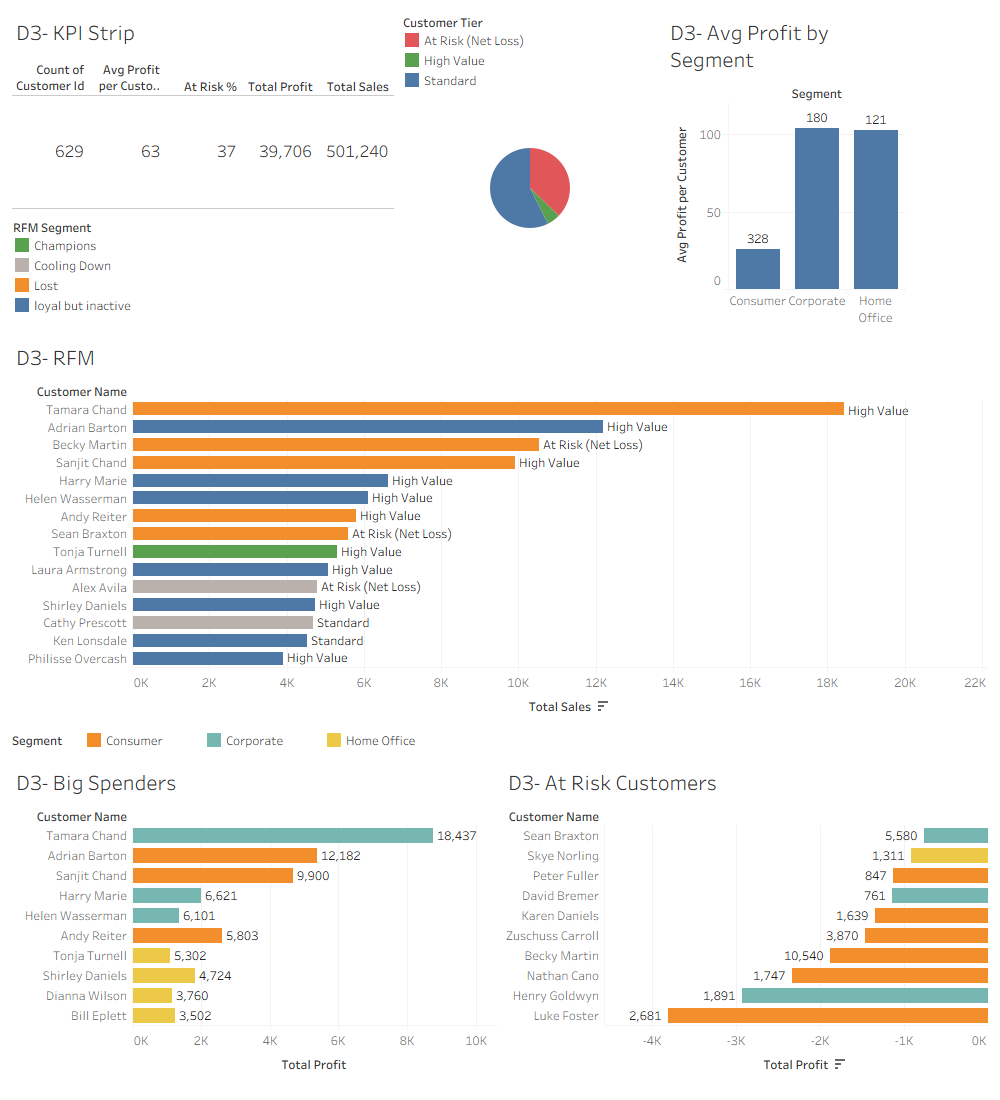

Layout of this report page (visuals, bound fields, positions):
{"tool":"tableau","page":{"name":"D3 - Customer Analysis","canvas":[1000,1100],"ordinal":2},"visuals":[{"type":"worksheet","title":"D3- KPI Strip","mark":"Automatic","box":[8,8,390,204.9]},{"type":"legend","title":"D3- Tier Distribution","param":"[federated.10387ro0izt5ks16vwlgk15n9znr].[none:Calculation_0299118446747662:nk]","box":[398,8,264.5,96]},{"type":"worksheet","title":"D3- Avg Profit by Segment","mark":"Bar","rows":["Calculation_0299118447652881"],"cols":["segment"],"box":[662.5,8,329.5,325]},{"type":"worksheet","title":"D3- Tier Distribution","mark":"Pie","box":[398,104,264.5,229]},{"type":"legend","title":"D3- RFM","param":"[federated.10387ro0izt5ks16vwlgk15n9znr].[none:Calculation_0913195950309381:nk]","box":[8,212.9,390,120.1]},{"type":"worksheet","title":"D3- RFM","mark":"Automatic","rows":["customer_name"],"cols":["Calculation_0299118397345792"],"box":[8,333,984,393]},{"type":"legend","title":"D3- Big Spenders","param":"[federated.10387ro0izt5ks16vwlgk15n9znr].[none:segment:nk]","box":[8,726,984,32]},{"type":"worksheet","title":"D3- Big Spenders","mark":"Automatic","rows":["customer_name"],"cols":["Calculation_0299118397489153"],"box":[8,758,492,334]},{"type":"worksheet","title":"D3- At Risk Customers","mark":"Automatic","rows":["customer_name"],"cols":["Calculation_0299118397489153"],"box":[500,758,492,334]}]}

Visuals, with their boxes in screenshot pixels (x1, y1, x2, y2), scaled from the page's 1000x1100 canvas onto the 1000x1100 screenshot:
"D3- KPI Strip" worksheet: 8,8,398,213
"D3- Tier Distribution" legend: 398,8,662,104
"D3- Avg Profit by Segment" worksheet (Bar marks): 662,8,992,333
"D3- Tier Distribution" worksheet (Pie marks): 398,104,662,333
"D3- RFM" legend: 8,213,398,333
"D3- RFM" worksheet: 8,333,992,726
"D3- Big Spenders" legend: 8,726,992,758
"D3- Big Spenders" worksheet: 8,758,500,1092
"D3- At Risk Customers" worksheet: 500,758,992,1092
